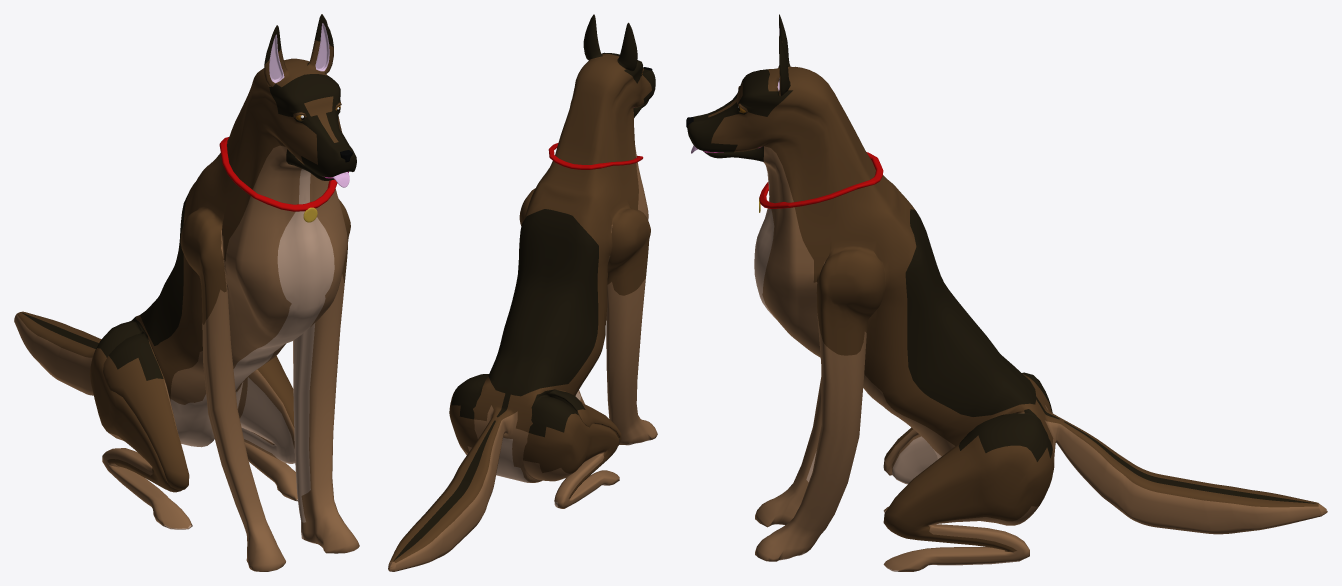
File: Buck.fbx
3 renders of one model, left to right at view 1: azimuth 30°, elevation 25°; view 2: azimuth 150°, elevation 25°; view 3: azimuth 270°, elevation 25°, orthographic. The views are drawn at different scales.
Visible parts, largest first — view 1: Buck_The_Dog; view 2: Buck_The_Dog; view 3: Buck_The_Dog.
Boxes of the visible parts, x1,y1,x2,y2 form: Buck_The_Dog: (14, 14, 359, 571); Buck_The_Dog: (388, 14, 657, 571); Buck_The_Dog: (686, 14, 1327, 571).
Bounding box in the file's own units: 9.29 × 29.38 × 33.21.
